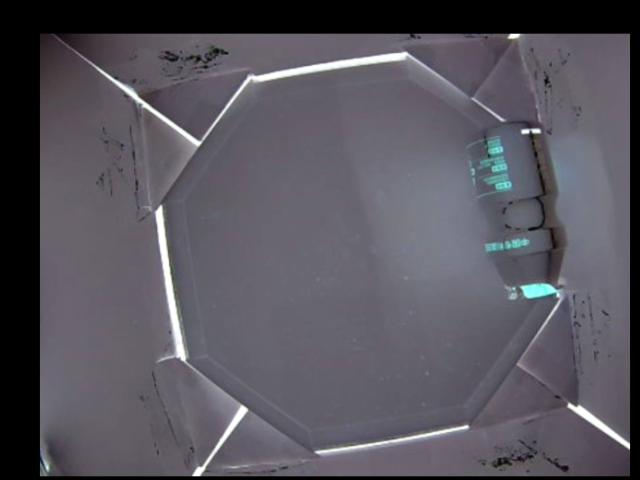Bottle: (463, 120, 566, 298)
